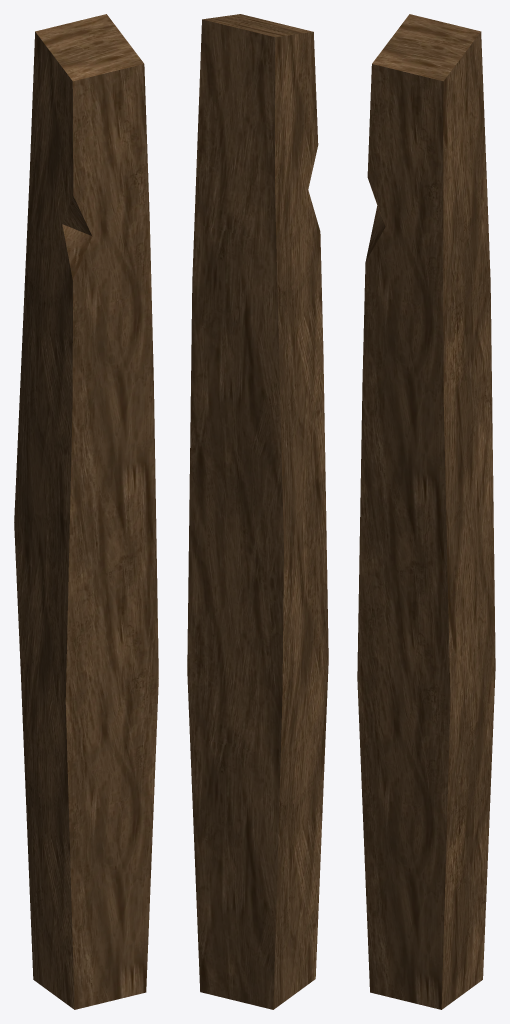
The model's file is pm-wooden-plank-06.glb.
The picture shows the model from 3 angles, left to right: view 1: azimuth 30°, elevation 25°; view 2: azimuth 150°, elevation 25°; view 3: azimuth 330°, elevation 25°; orthographic projection. The views are drawn at different scales.
Visible parts, largest first — view 1: WoodenPlank06; view 2: WoodenPlank06; view 3: WoodenPlank06.
Boxes of the visible parts, x1,y1,x2,y2 form: WoodenPlank06: (14, 14, 158, 1009); WoodenPlank06: (187, 14, 328, 1009); WoodenPlank06: (357, 14, 495, 1009).
Size of the model in its own units: 0.2859 by 2.67 by 0.2477.
1 material, 1 textured.
